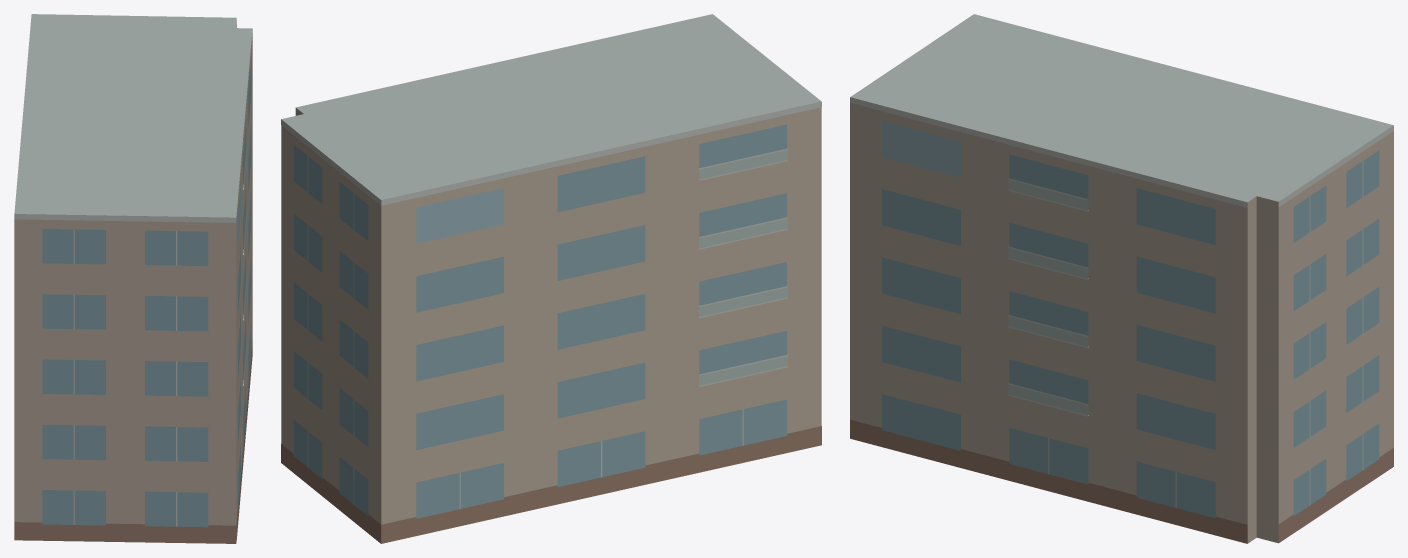
The model's file is survey-upis-32654298.glb.
3 renders of one model, left to right at view 1: azimuth 30°, elevation 25°; view 2: azimuth 150°, elevation 25°; view 3: azimuth 270°, elevation 25°, orthographic. The views are drawn at different scales.
Visible parts, largest first — view 1: survey-upis-32654298.tmp; view 2: survey-upis-32654298.tmp; view 3: survey-upis-32654298.tmp.
Part boxes in pixels (bbox=[...]): survey-upis-32654298.tmp: bbox=[14, 14, 252, 543]; survey-upis-32654298.tmp: bbox=[281, 14, 821, 543]; survey-upis-32654298.tmp: bbox=[850, 14, 1393, 543].
Bounding box in the file's own units: 17.4 × 14.7 × 21.22.
